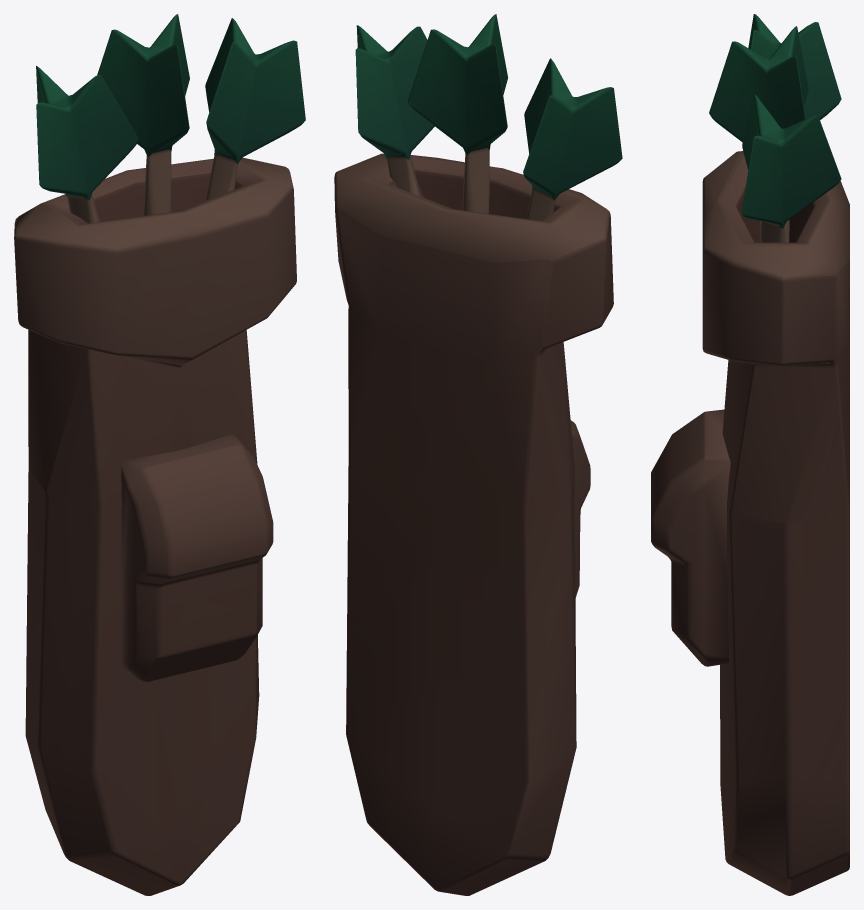
File: quiver_1.glb
3 renders of one model, left to right at view 1: azimuth 30°, elevation 25°; view 2: azimuth 150°, elevation 25°; view 3: azimuth 270°, elevation 25°, orthographic. The views are drawn at different scales.
Parts seen in each view (by area): view 1: quiver_1; view 2: quiver_1; view 3: quiver_1.
Boxes of the visible parts, x1,y1,x2,y2 form: quiver_1: (14,14,305,895); quiver_1: (334,14,622,895); quiver_1: (651,14,849,895).
Bounding box in the file's own units: 0.2472 × 0.75 × 0.1583.
1 material, 1 textured.
